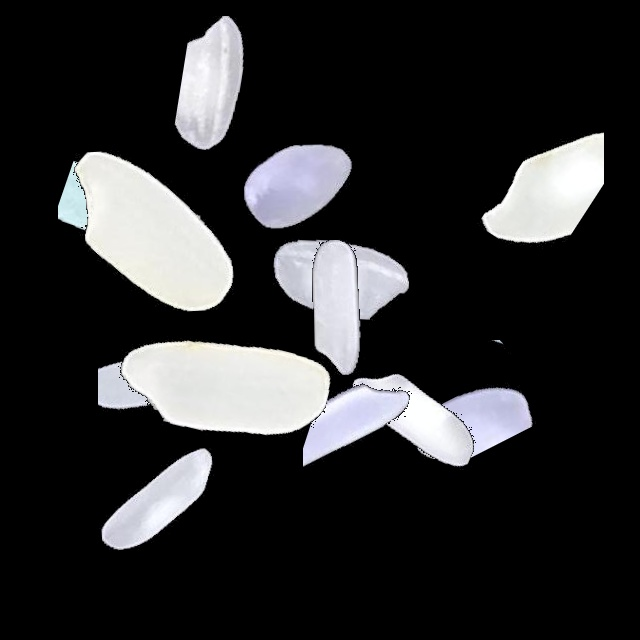Broken: (250, 193, 424, 443), (58, 92, 230, 342), (98, 285, 267, 535), (130, 16, 380, 165), (325, 310, 575, 459), (458, 35, 604, 285), (303, 334, 441, 584), (54, 44, 155, 294), (355, 340, 605, 440)
Full: (210, 181, 460, 431), (171, 60, 421, 310), (28, 107, 278, 357), (290, 289, 540, 539), (30, 373, 280, 623), (96, 262, 346, 512)
